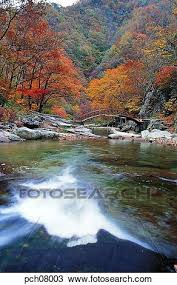mountain: (3, 2, 170, 139)
tree: (3, 6, 51, 128), (93, 63, 147, 129)
waterfall: (6, 157, 172, 272)
